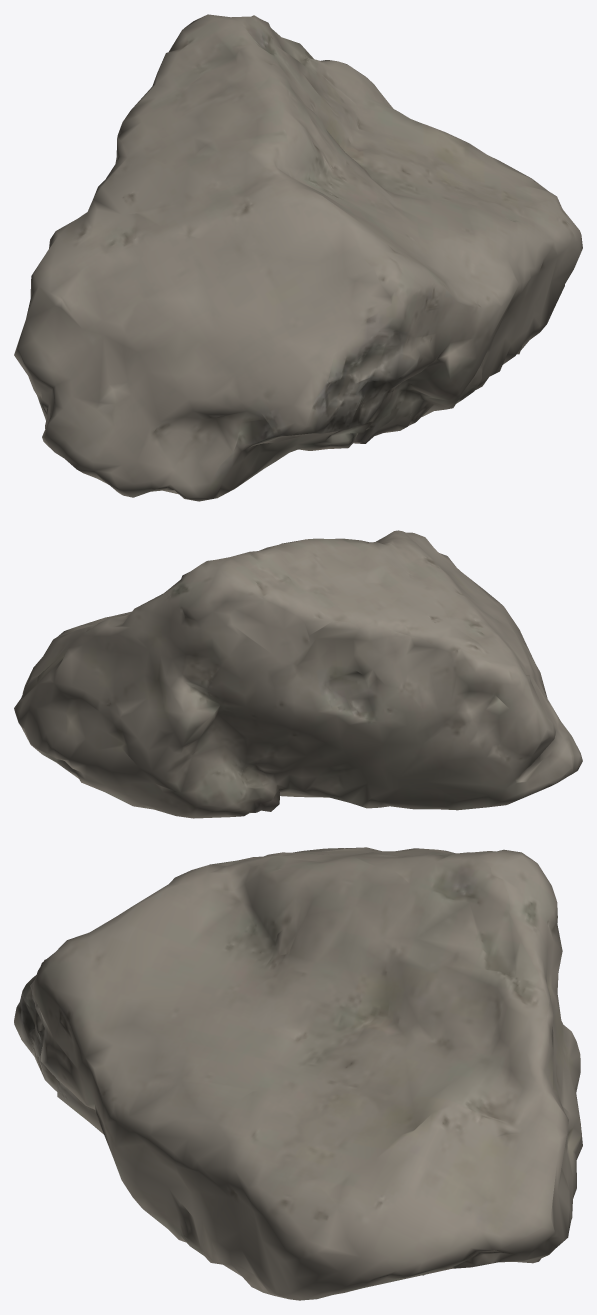
The model's file is moon_rock_3.glb.
3 renders of one model, top to bottom at view 1: azimuth 30°, elevation 25°; view 2: azimuth 150°, elevation 25°; view 3: azimuth 270°, elevation 25°, orthographic. The views are drawn at different scales.
Parts seen in each view (by area): view 1: moon_rock_03_LOD0; view 2: moon_rock_03_LOD0; view 3: moon_rock_03_LOD0.
Part boxes in pixels (x1=…): moon_rock_03_LOD0: x1=14, y1=14, x2=582, y2=501; moon_rock_03_LOD0: x1=14, y1=530, x2=582, y2=818; moon_rock_03_LOD0: x1=14, y1=847, x2=582, y2=1300.
Size of the model in its own units: 0.112 by 0.0582 by 0.0861.
1 material, 1 textured.
